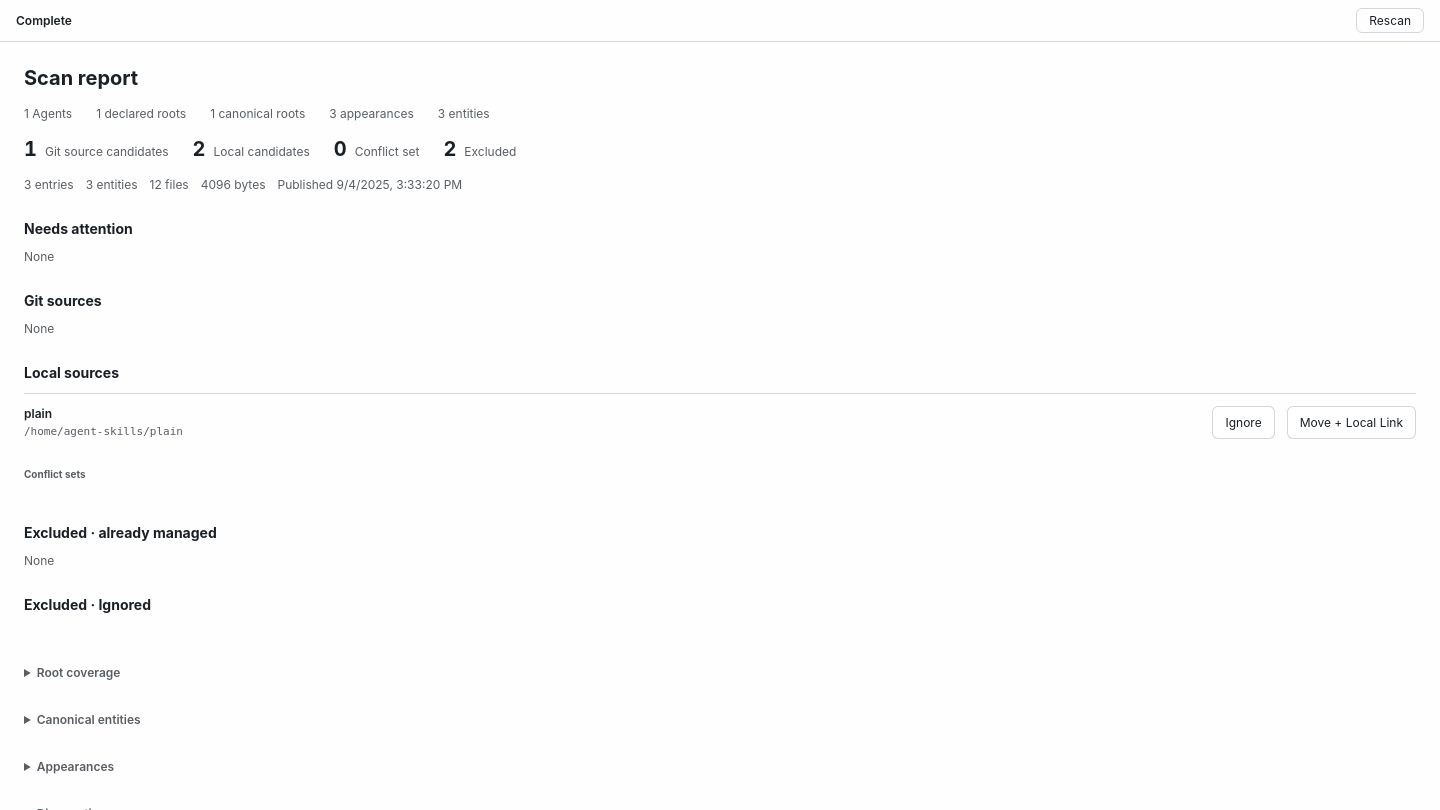
Test: move-required local candidates use a direct plan button, not a checkbox
Click the button "Move + Local Link" at (1351, 422), box 1287,406 -> 1416,439
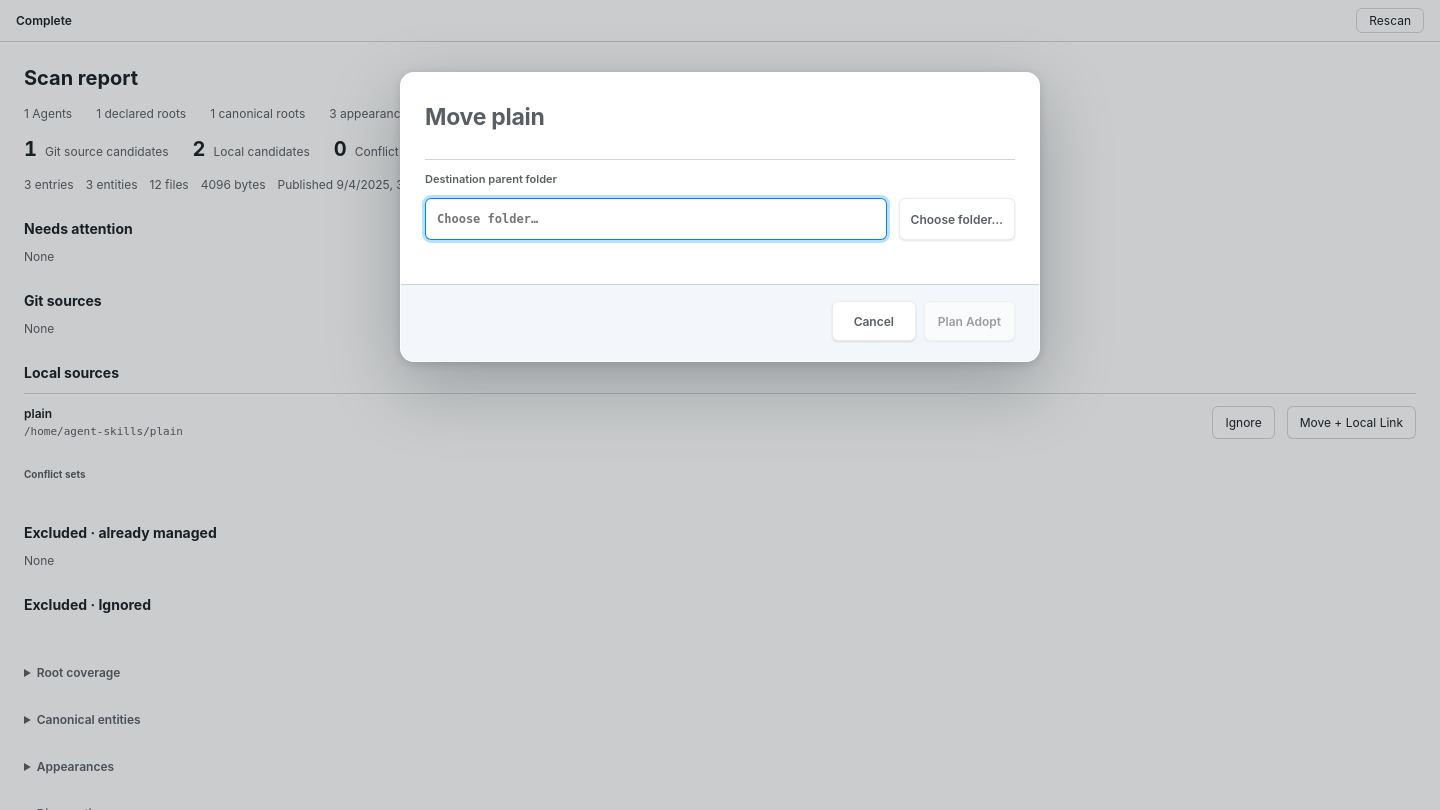
Click the button "Choose folder…" at (957, 219), box 899,198 -> 1015,240
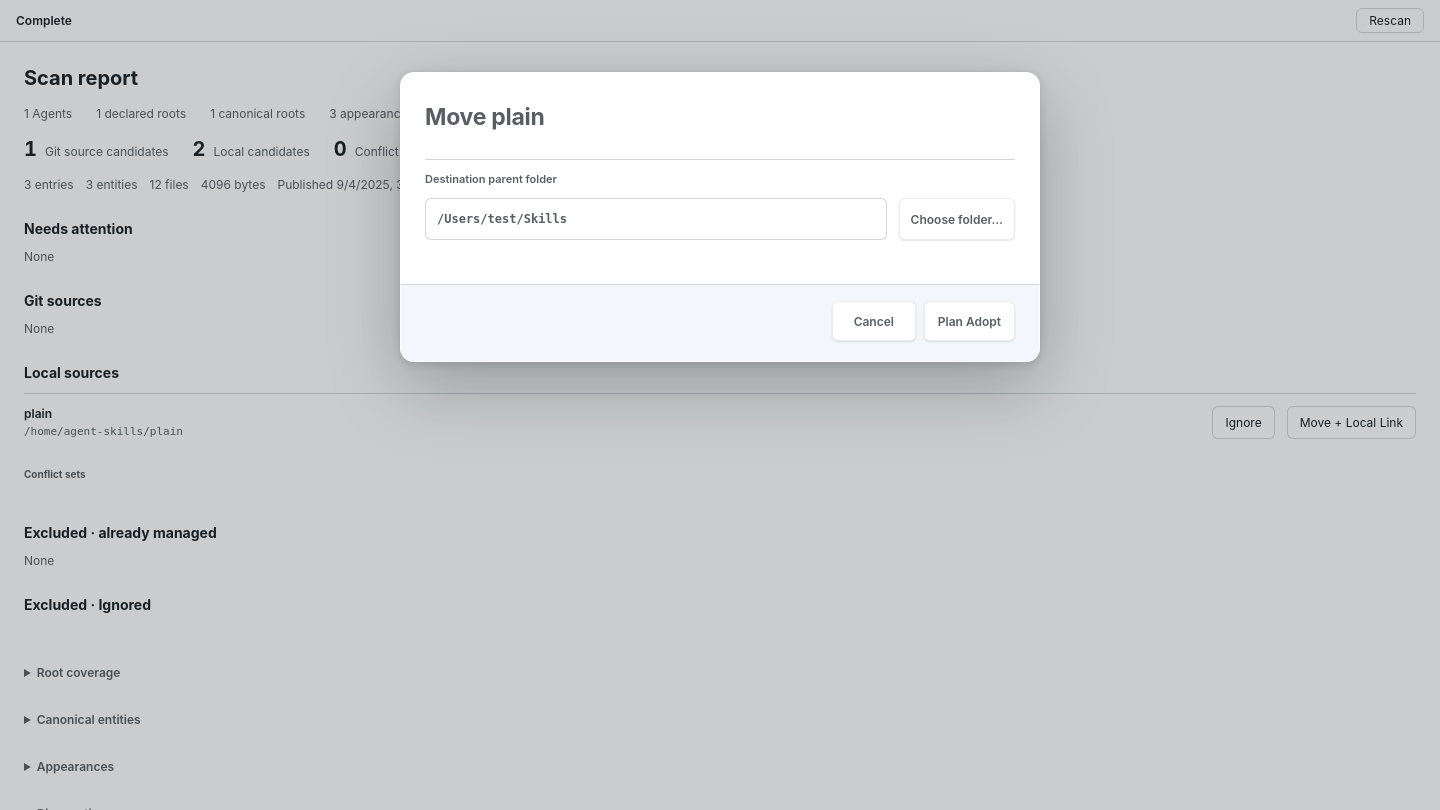
Click the button "Plan Adopt" at (969, 321), box 924,301 -> 1015,341
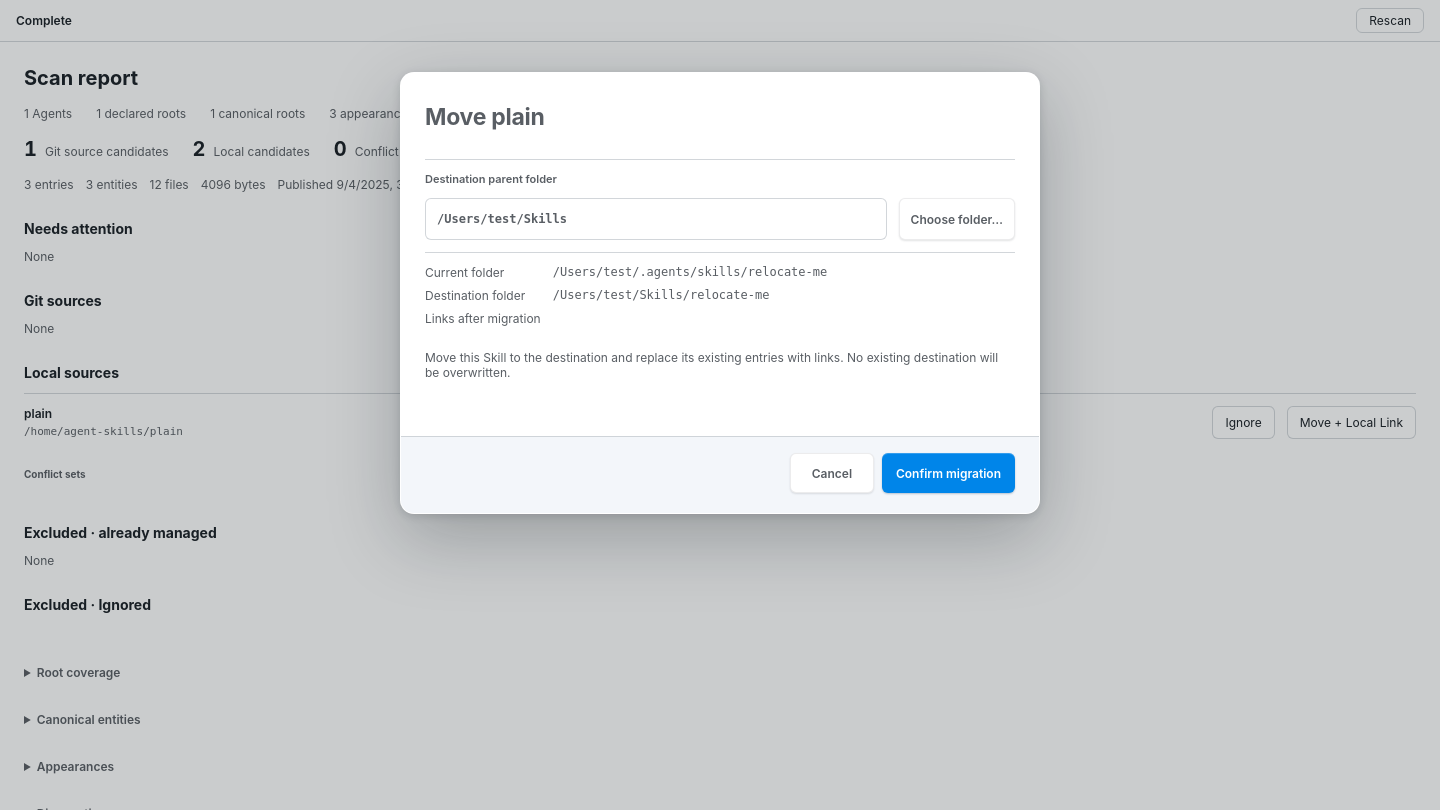
Check: the text "/Users/test/.agents/skills/relocate-me" is shown, box 553,265 -> 827,279
Check: the text "/Users/test/Skills/relocate-me" is shown, box 553,288 -> 770,302
Click the button "Cancel" at (832, 473), box 790,453 -> 874,493
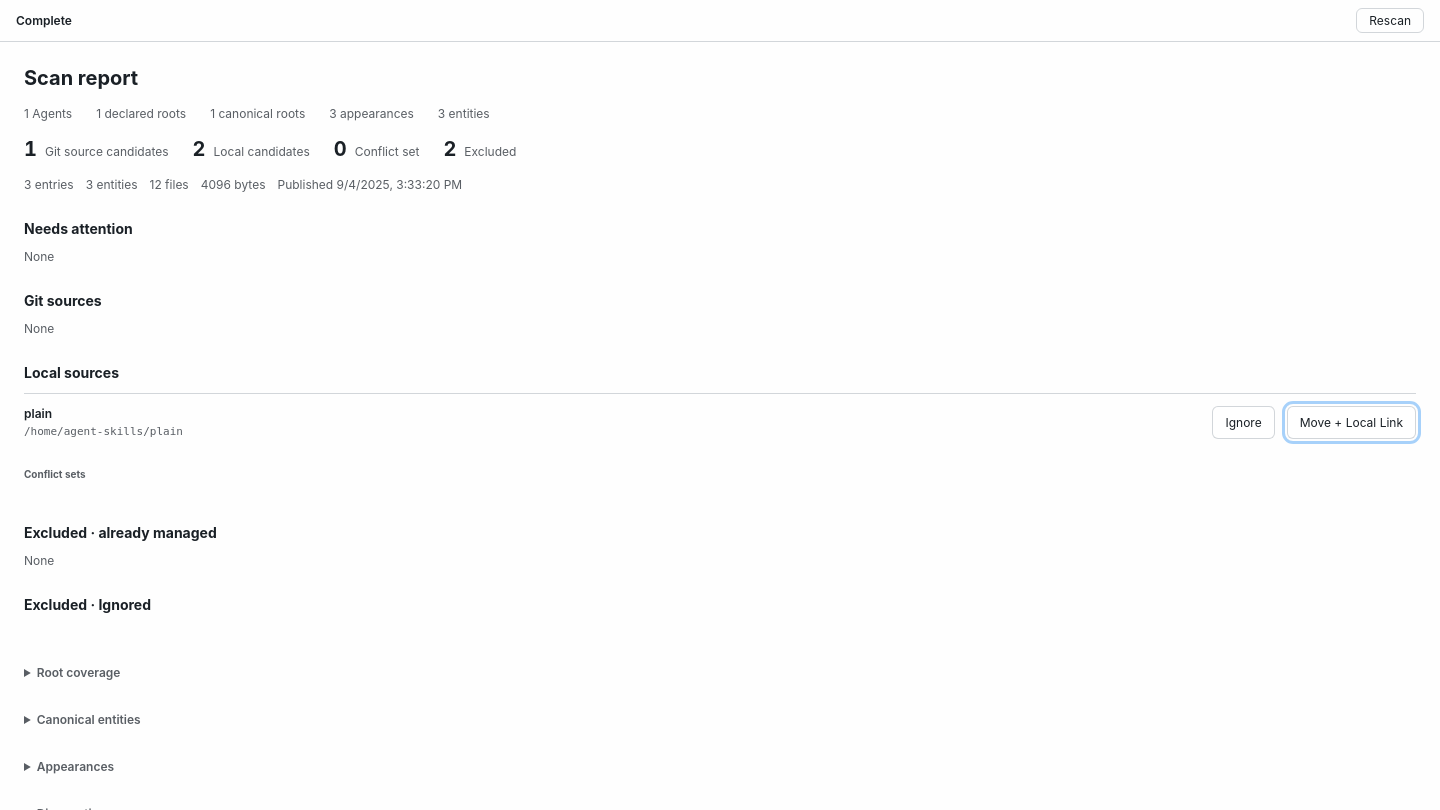
Check: the text "/Users/test/Skills/relocate-me" is gone
